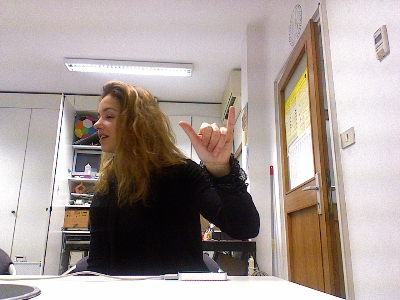六六六: (177, 105, 235, 165)
